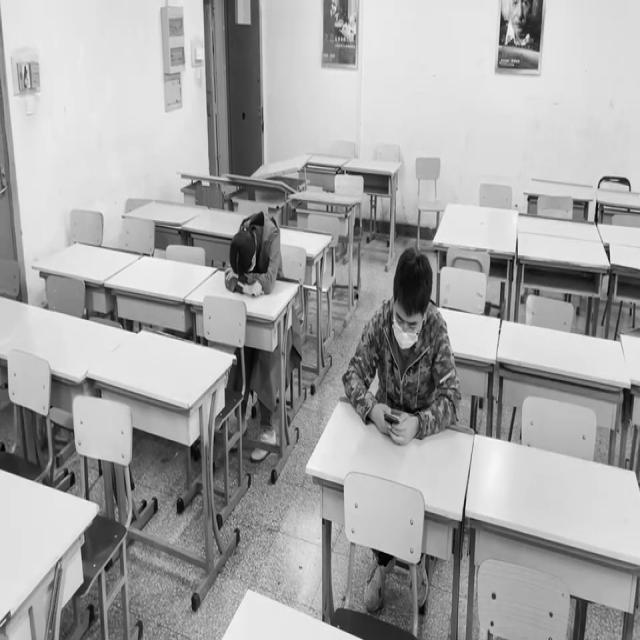phone: (342, 252, 457, 439)
sleep: (221, 213, 283, 291)
